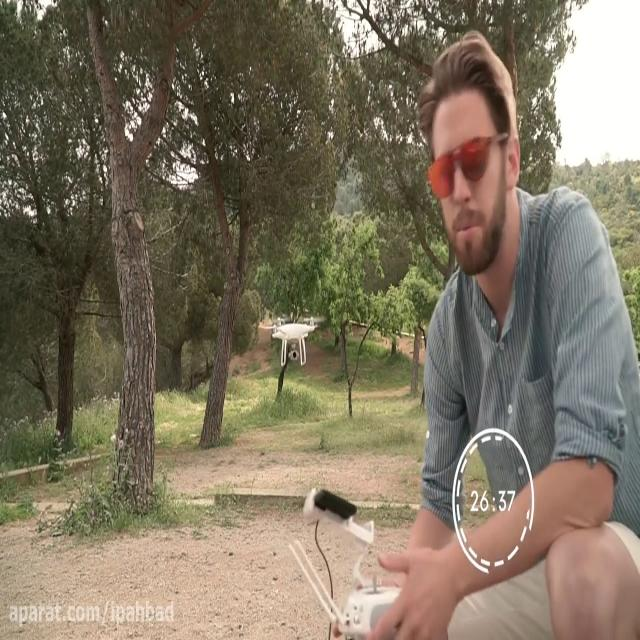drone: (266, 309, 326, 367)
